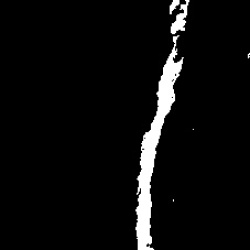crack: (134, 2, 188, 247)
